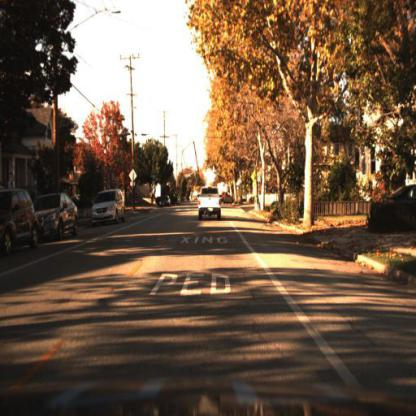car: (365, 180, 416, 241), (1, 186, 39, 259), (35, 190, 84, 246), (31, 191, 77, 240), (87, 183, 127, 235), (89, 187, 127, 227), (198, 185, 222, 225), (157, 194, 173, 212), (171, 192, 181, 208), (224, 193, 233, 206), (220, 191, 226, 204)
truck: (216, 180, 232, 193)
